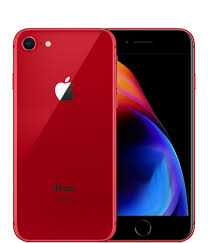iphone8: (10, 23, 195, 242), (10, 23, 118, 243), (113, 24, 193, 240)
